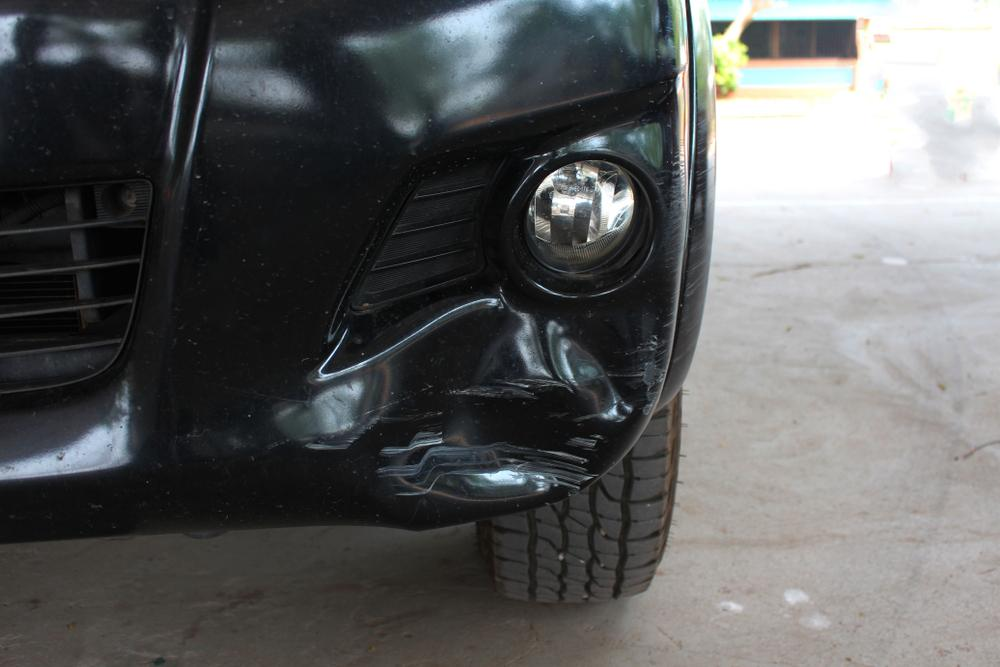dent: (387, 288, 641, 504)
scratch: (661, 144, 715, 304), (628, 320, 672, 414), (372, 439, 430, 499), (304, 414, 381, 451)
